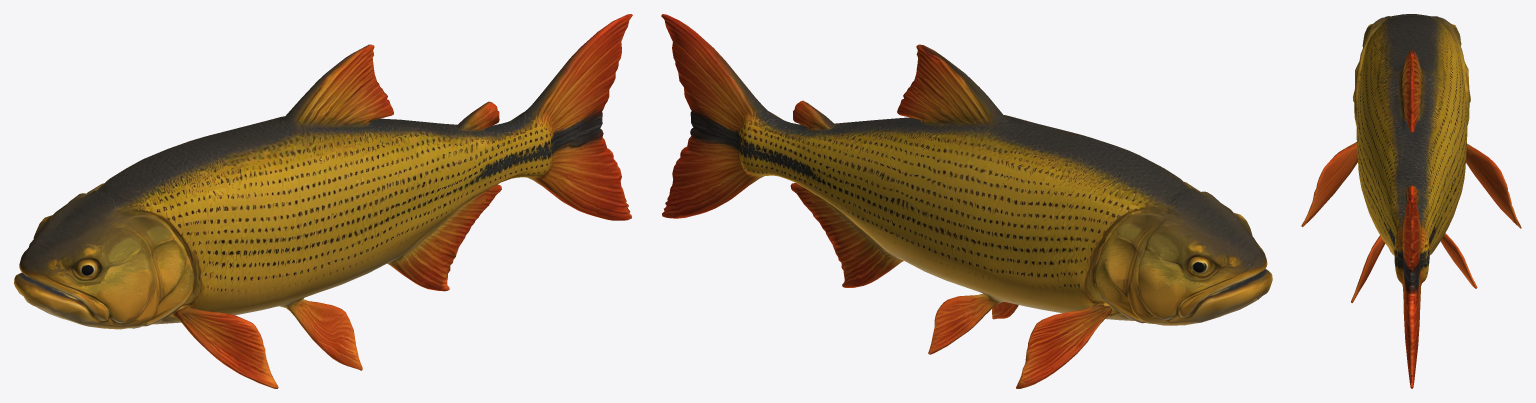
The model's file is fish-zoldorada.glb.
3 views of the same model, side by side, from view 1: azimuth 30°, elevation 25°; view 2: azimuth 150°, elevation 25°; view 3: azimuth 270°, elevation 25° (orthographic). The views are drawn at different scales.
Parts seen in each view (by area): view 1: tripo_node_273455a8-7c9b-49c5-8cec-c0040d0bec0c; view 2: tripo_node_273455a8-7c9b-49c5-8cec-c0040d0bec0c; view 3: tripo_node_273455a8-7c9b-49c5-8cec-c0040d0bec0c.
Part boxes in pixels (x1,y1,x2,y2): tripo_node_273455a8-7c9b-49c5-8cec-c0040d0bec0c: (14, 14, 632, 388); tripo_node_273455a8-7c9b-49c5-8cec-c0040d0bec0c: (661, 14, 1272, 388); tripo_node_273455a8-7c9b-49c5-8cec-c0040d0bec0c: (1301, 14, 1521, 388).
Bounding box in the file's own units: 1 × 0.4538 × 0.3384.
1 material, 1 textured.
